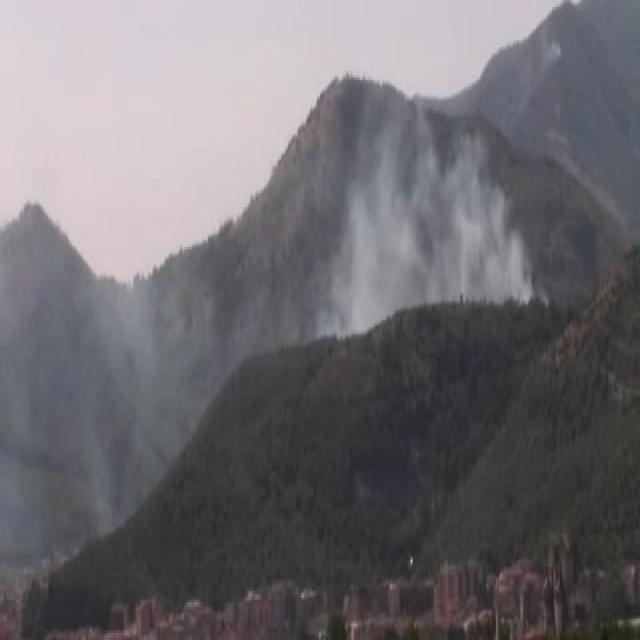smoke: (346, 134, 501, 305)
